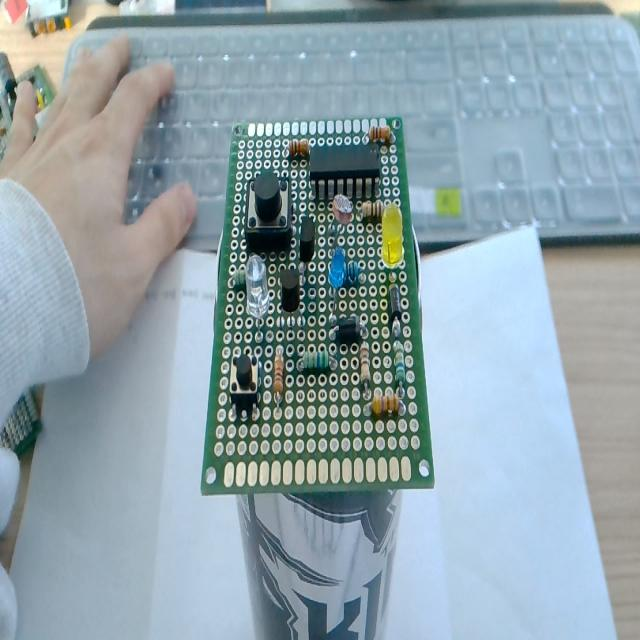IC: (308, 143, 379, 202)
cds: (332, 193, 353, 223)
diode: (329, 317, 362, 348), (389, 283, 402, 329)
led: (244, 253, 270, 320), (381, 203, 404, 268), (328, 246, 347, 314)
resistor: (369, 391, 402, 417), (272, 348, 284, 407), (303, 348, 329, 371), (393, 342, 405, 387), (358, 200, 382, 222), (360, 344, 370, 390), (288, 138, 310, 158), (369, 124, 391, 144), (234, 266, 246, 288)
switch: (245, 172, 292, 252), (230, 352, 261, 422)
transistor: (300, 219, 316, 283), (280, 266, 300, 312)
